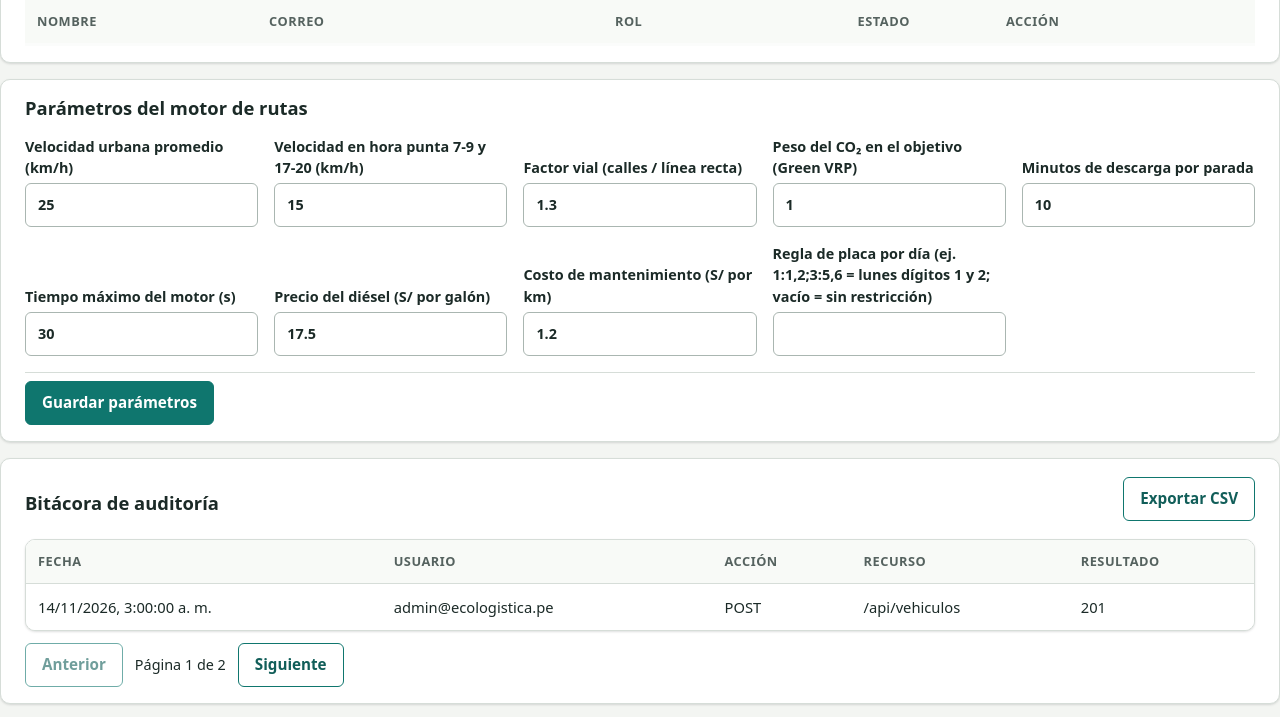
Test case: Administración (RF-012) › muestra el error al guardar parámetros y si no carga la configuración
The width and height of the screenshot is (1280, 717).
(page scrolled)
Click the button "Guardar parámetros" at (120, 403), box [25,381,214,425]
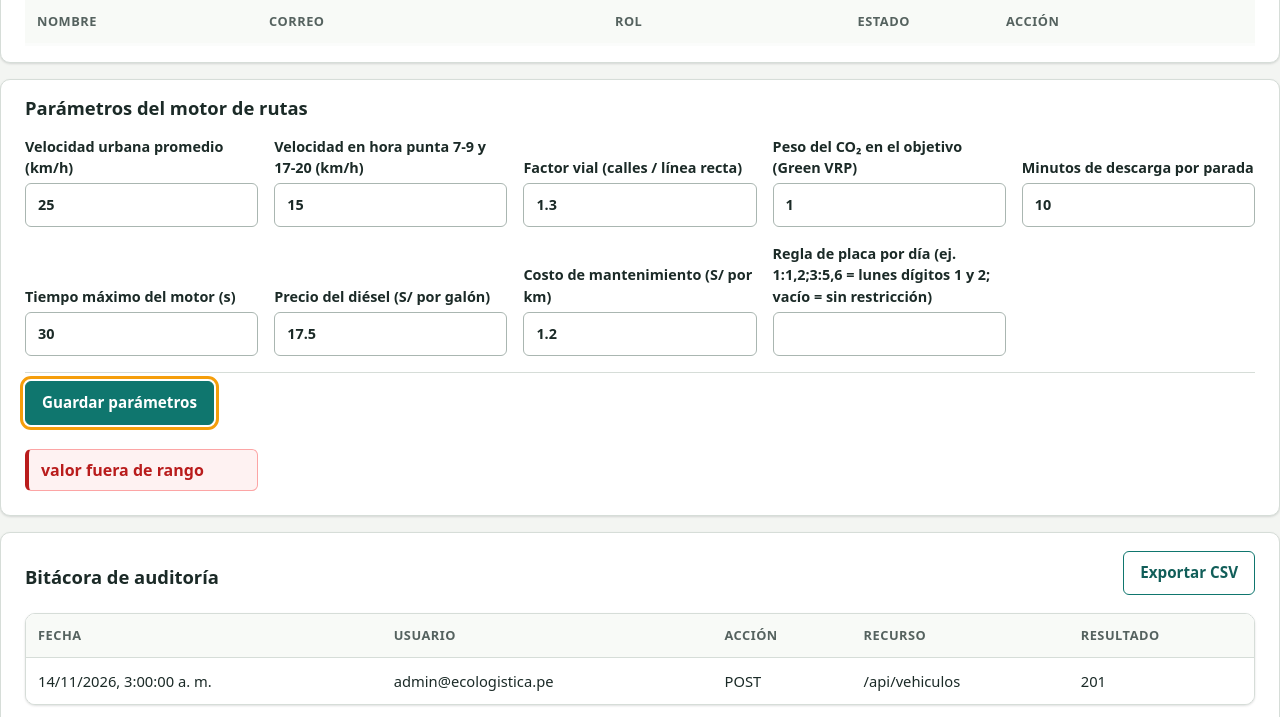
expect the text "valor fuera de rango" is shown: met, box [25,449,258,491]
